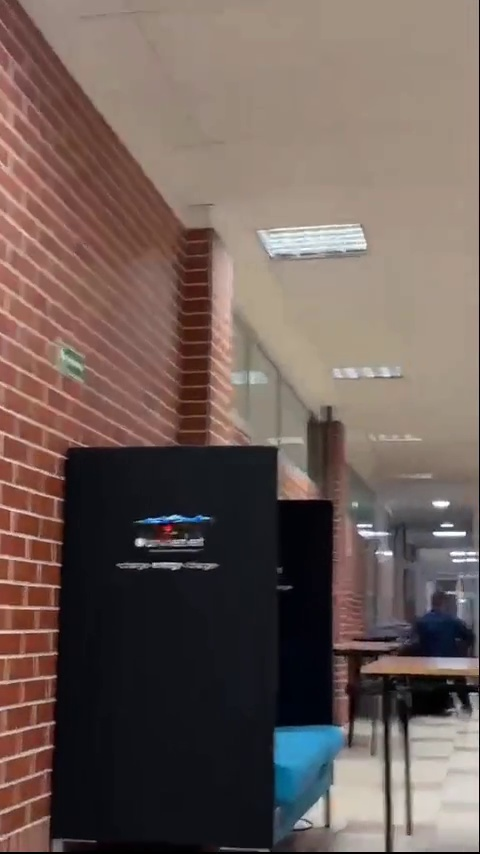drone: (134, 514, 217, 533)
no vest: (407, 588, 468, 664)
